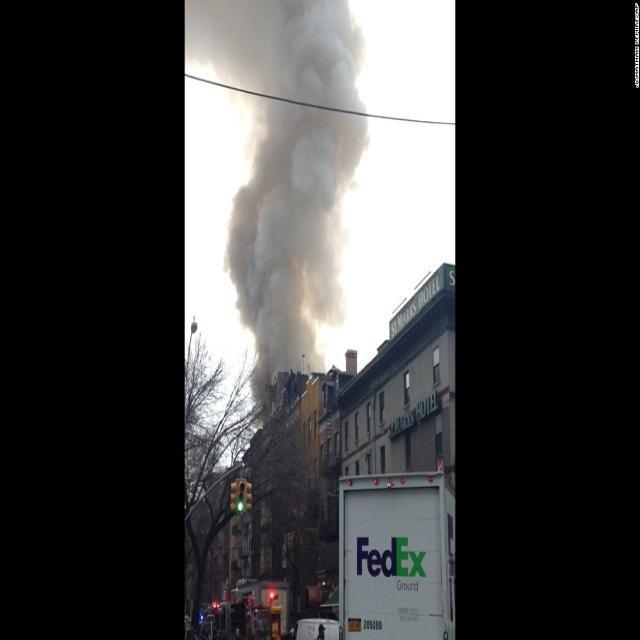Smoke: (222, 0, 386, 393)
